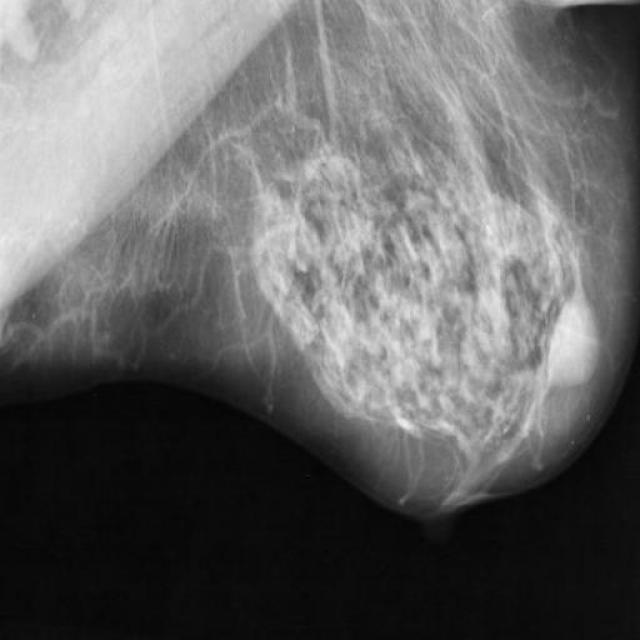cancer: (506, 272, 610, 418)
